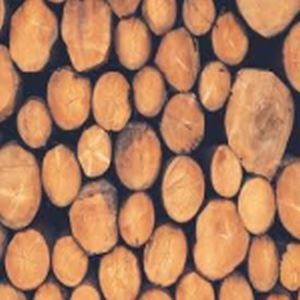log: (228, 64, 294, 174), (194, 199, 249, 277), (61, 1, 111, 72), (69, 180, 118, 252), (9, 1, 58, 72), (113, 120, 162, 191), (1, 145, 38, 229), (162, 154, 207, 221), (156, 30, 201, 91), (5, 231, 50, 292), (161, 92, 203, 157), (47, 69, 92, 129), (145, 224, 189, 284), (39, 145, 81, 207), (93, 71, 133, 131), (100, 246, 143, 300), (118, 192, 156, 250), (239, 177, 277, 234), (113, 19, 154, 69), (51, 236, 90, 287), (131, 66, 167, 120), (15, 96, 51, 149), (77, 125, 113, 178), (208, 144, 242, 197), (214, 17, 251, 65), (197, 60, 231, 111), (249, 235, 278, 291), (181, 1, 216, 35), (141, 1, 178, 32)
